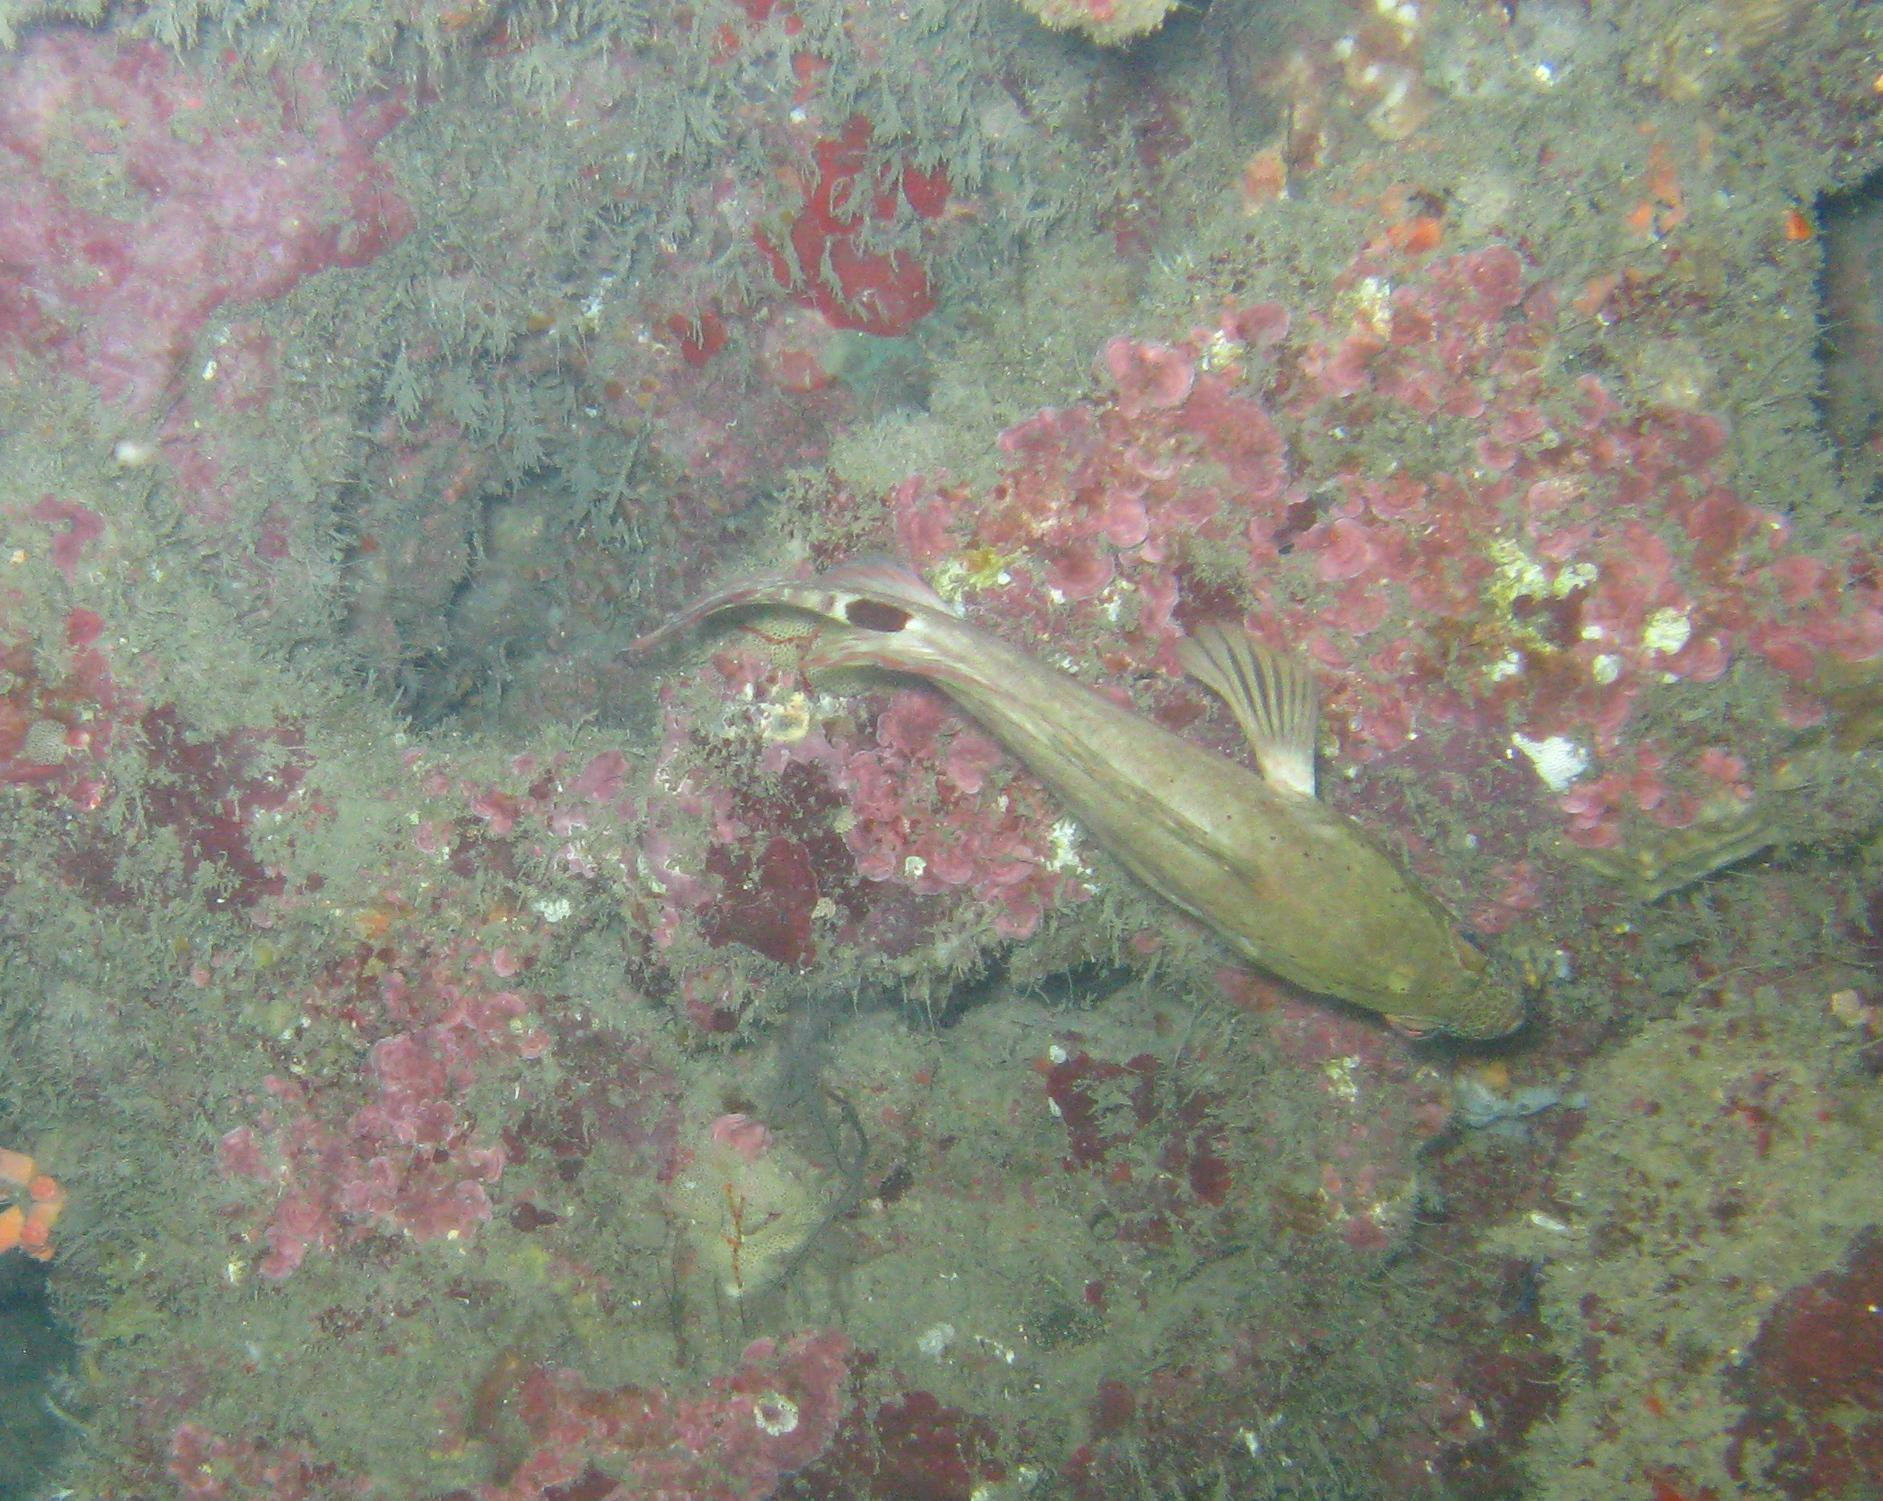Fish: (651, 502, 1543, 1071)
